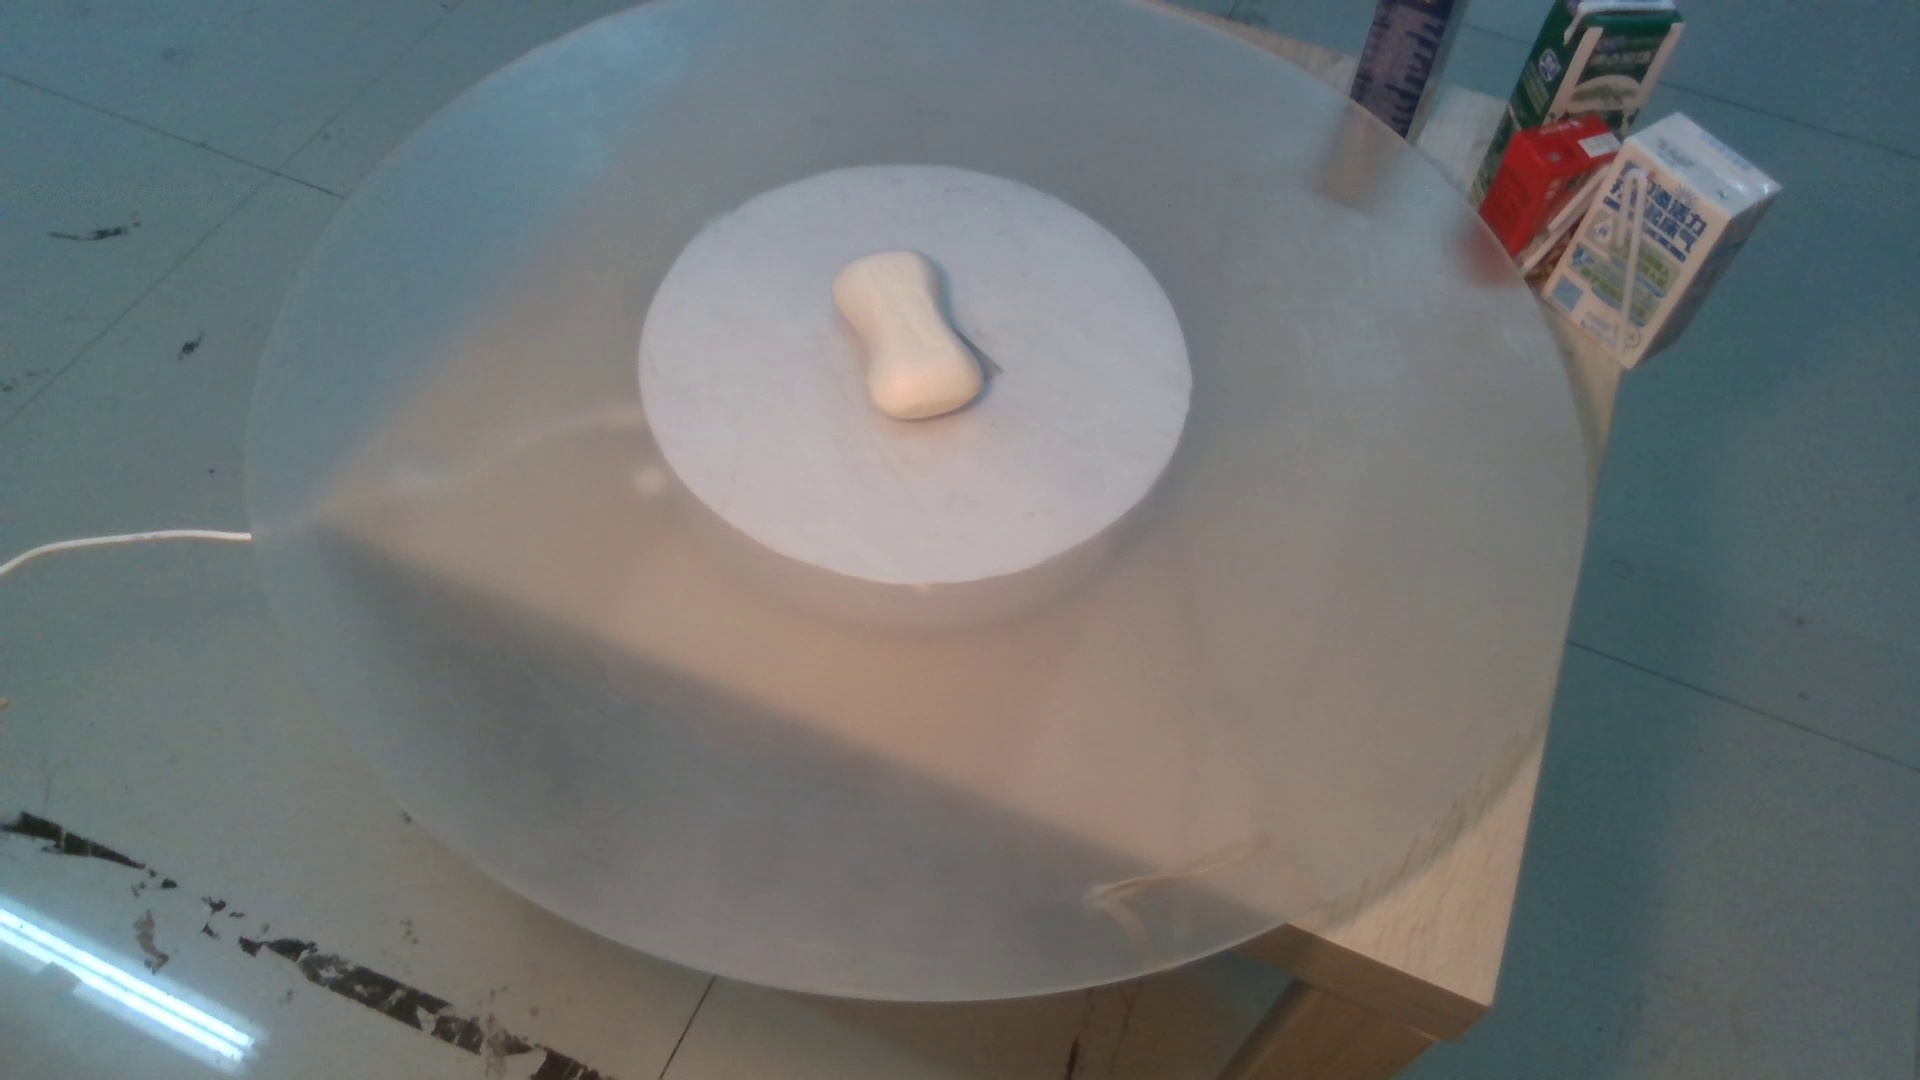CA003_1: (804, 235, 1005, 435)
